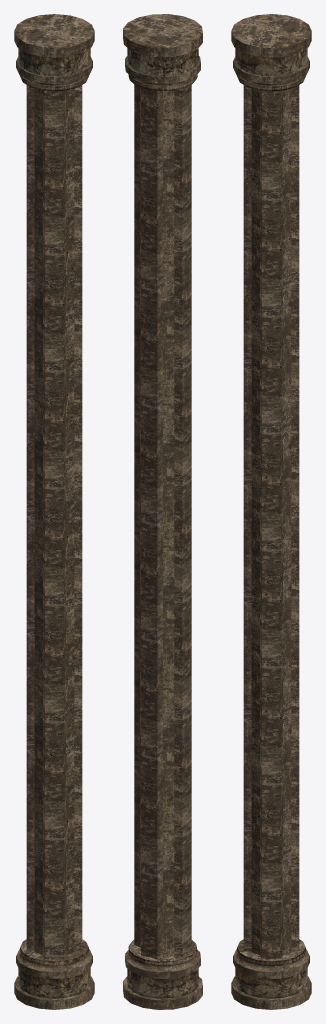
Rendered from materials_5_pillar_long_20.fbx.
The picture shows the model from 3 angles, left to right: view 1: azimuth 90°, elevation 25°; view 2: azimuth 150°, elevation 25°; view 3: azimuth 270°, elevation 25°; orthographic projection.
Parts seen in each view (by area): view 1: materials_5_pillar_long_20; view 2: materials_5_pillar_long_20; view 3: materials_5_pillar_long_20.
Part boxes in pixels (x1,y1,x2,y2): materials_5_pillar_long_20: [14, 14, 94, 1009]; materials_5_pillar_long_20: [123, 14, 202, 1009]; materials_5_pillar_long_20: [231, 14, 311, 1009].
Bounding box in the file's own units: 76.04 × 1001 × 76.04.
